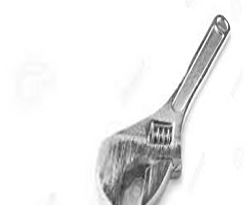Wrench: (84, 13, 236, 205)
